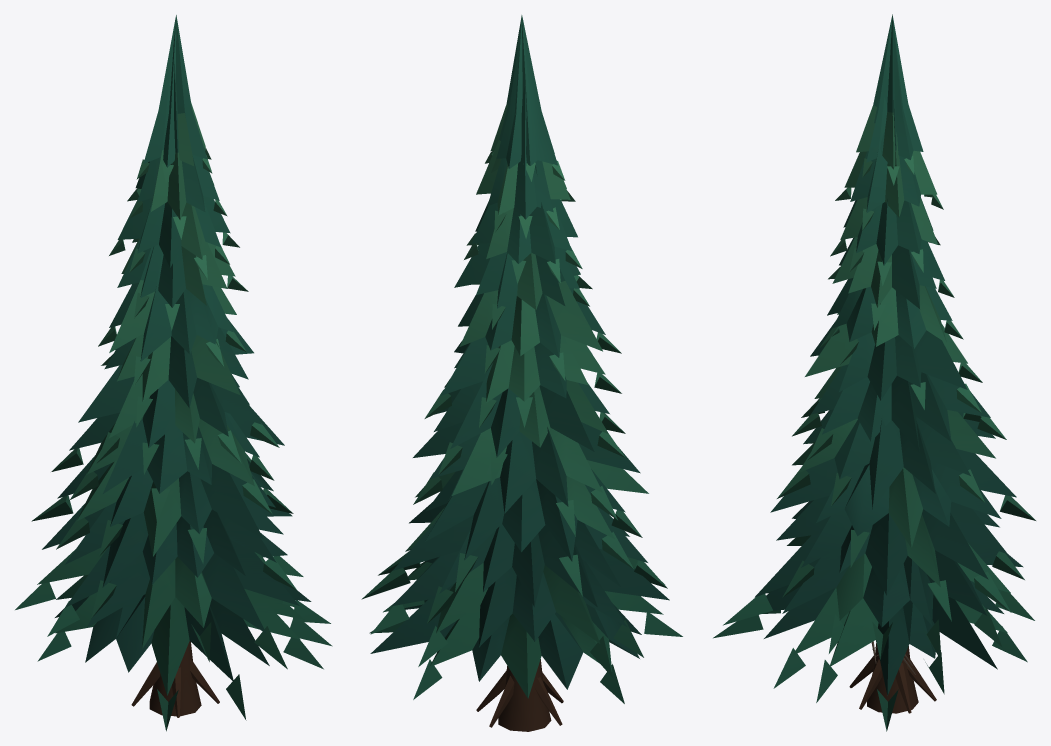
Rendered from Spruce_A.fbx.
The picture shows the model from 3 angles, left to right: view 1: azimuth 30°, elevation 25°; view 2: azimuth 150°, elevation 25°; view 3: azimuth 270°, elevation 25°; orthographic projection. The views are drawn at different scales.
Visible parts, largest first — view 1: Spruce_A_LOD0; view 2: Spruce_A_LOD0; view 3: Spruce_A_LOD0.
Part boxes in pixels (x1,y1,x2,y2): Spruce_A_LOD0: (15,15,332,731); Spruce_A_LOD0: (361,15,682,731); Spruce_A_LOD0: (713,14,1035,731).
Size of what is drawn, in the model's own units: 6.11 by 14.5 by 6.19.
1 material, 1 textured.
